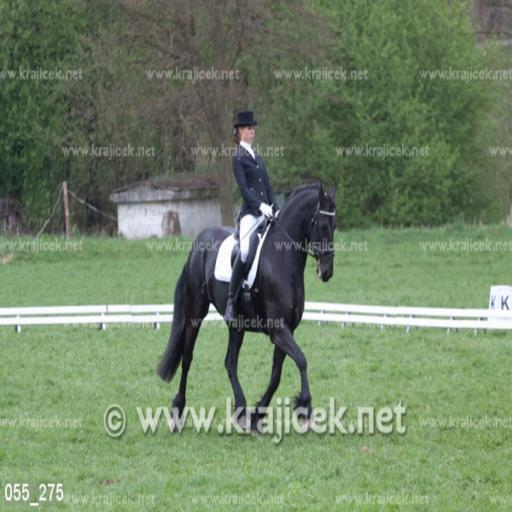horse: (154, 176, 336, 436)
